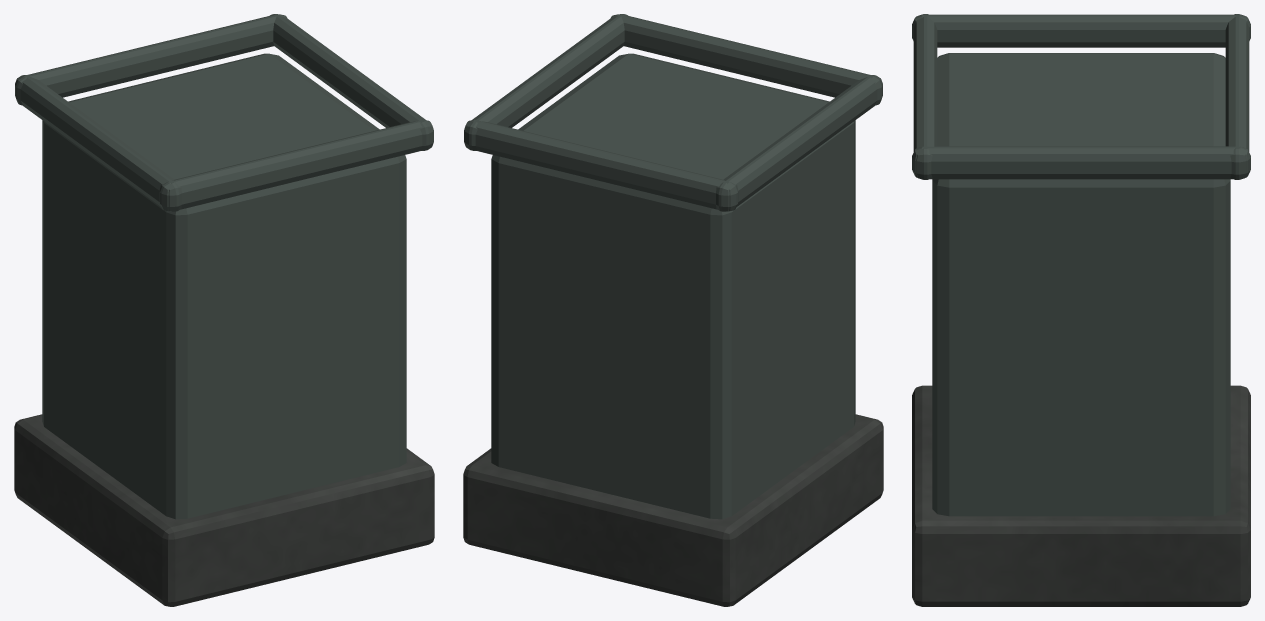
File: park_bin.glb
3 views of the same model, side by side, from view 1: azimuth 30°, elevation 25°; view 2: azimuth 150°, elevation 25°; view 3: azimuth 270°, elevation 25° (orthographic). The views are drawn at different scales.
Parts seen in each view (by area): view 1: park_bin; view 2: park_bin; view 3: park_bin.
Part boxes in pixels (left/top/right/bottom): park_bin: left=14, top=14, right=434, bottom=606; park_bin: left=463, top=14, right=883, bottom=606; park_bin: left=912, top=14, right=1250, bottom=606.
Size of the model in its own units: 0.5 by 0.745 by 0.5.
3 materials, 2 textured.
